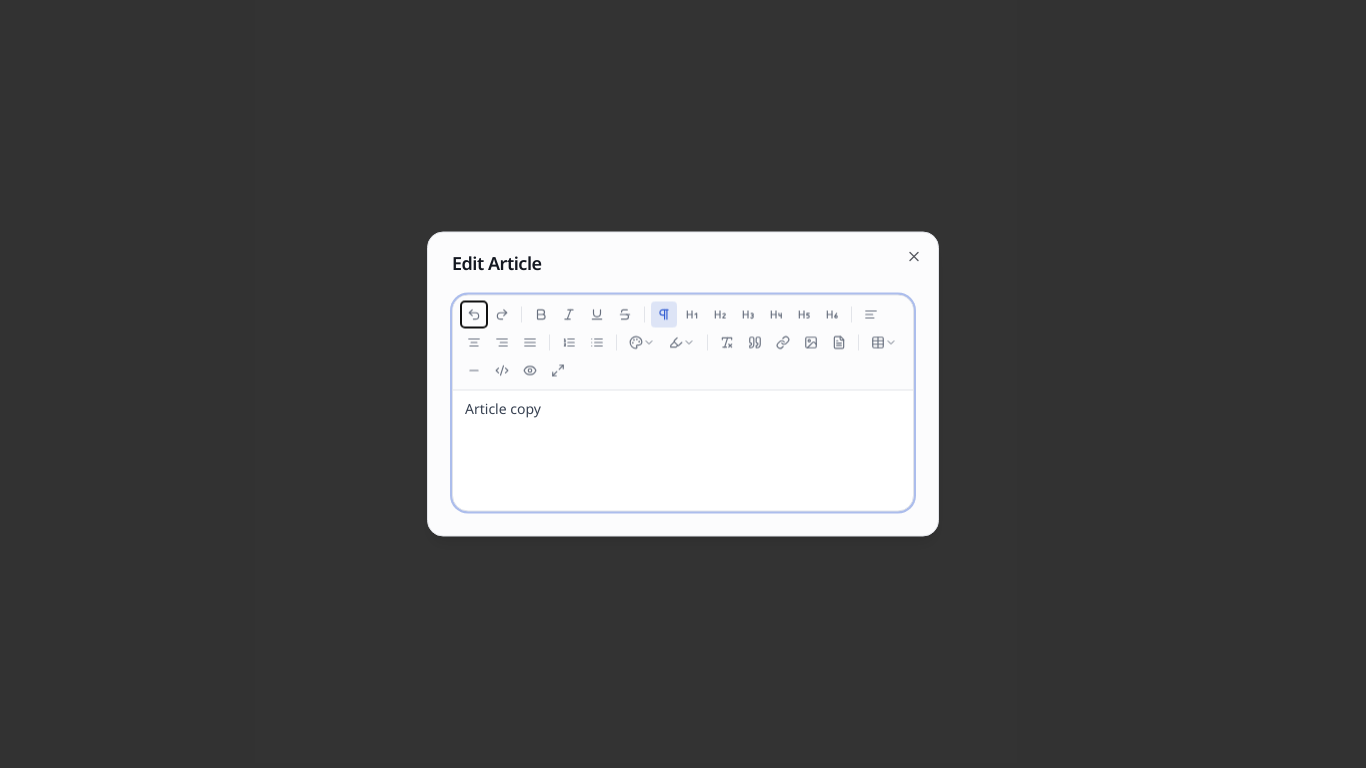
Scenario: RichTextEditor images › keeps image controls interactive inside the article dialog
This screenshot has width=1366, height=768.
Step 1. Click the button titled "Insert image" → (811, 342), box [798, 330, 824, 356]
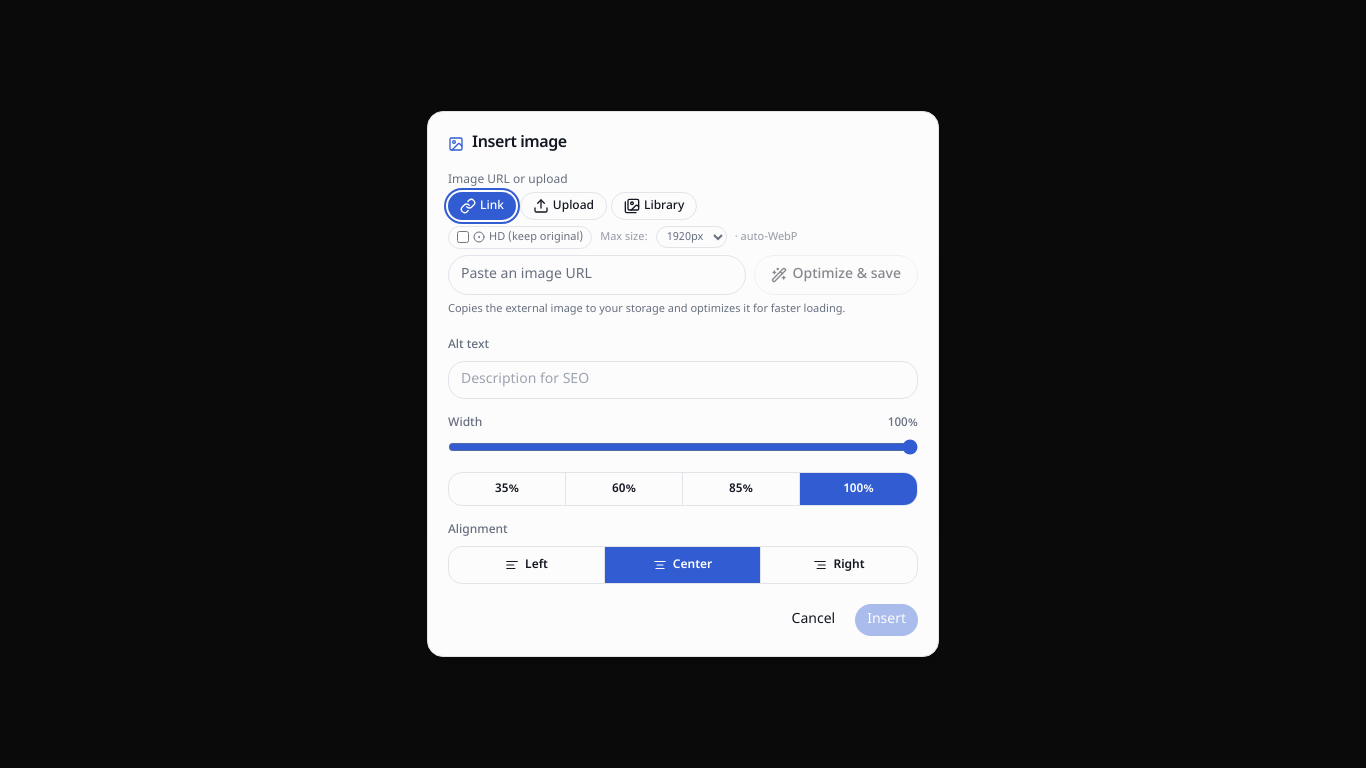
Expected: the dialog "Insert image" is shown, [427, 111, 939, 657]
Step 2. Click the button "Upload" → (564, 206), box [520, 192, 607, 220]
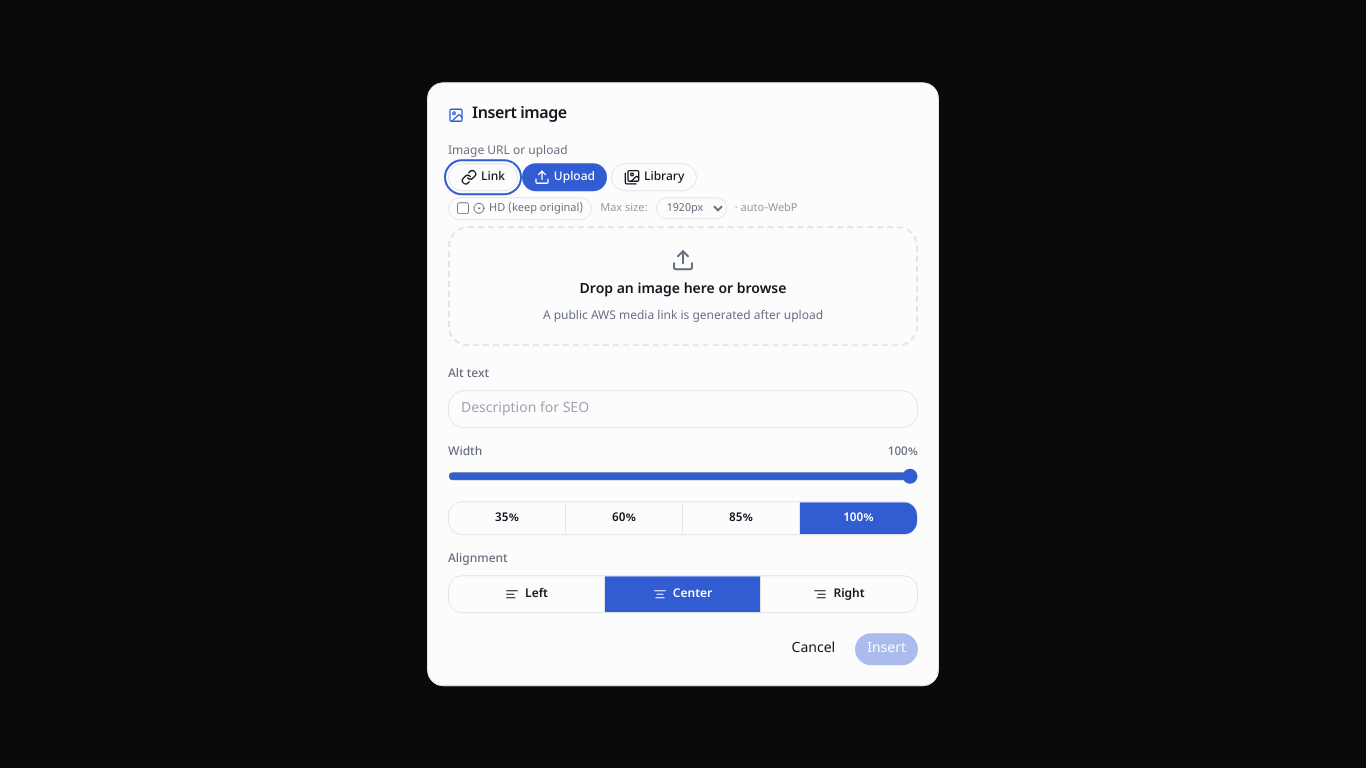
Expected: the text "Drop an image here or browse" is shown, [580, 280, 786, 300]
Step 3. Click the button "Link" → (483, 177), box [448, 163, 518, 191]
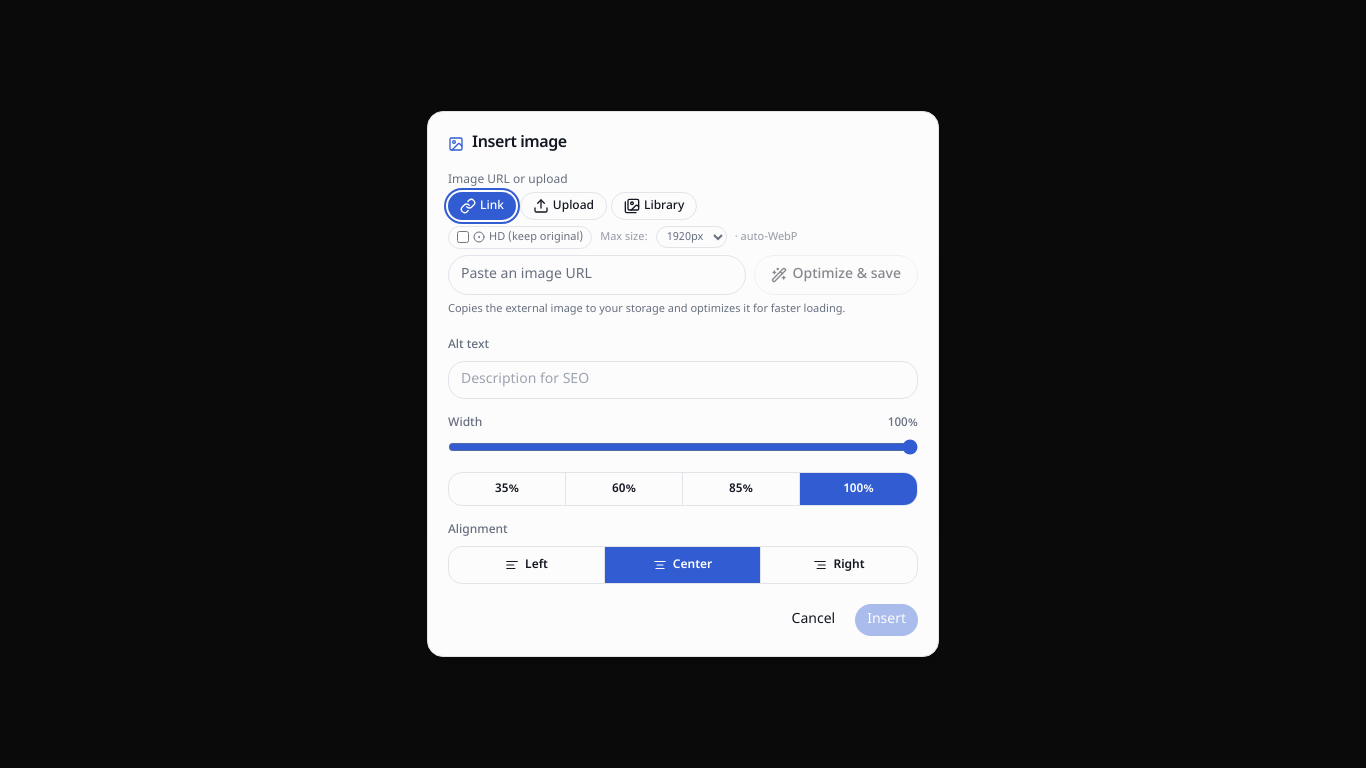
Expected: the text "Alt text" is shown, [448, 337, 489, 353]
Expected: the field with placeholder "Paste an image URL" is shown, [448, 254, 746, 294]
